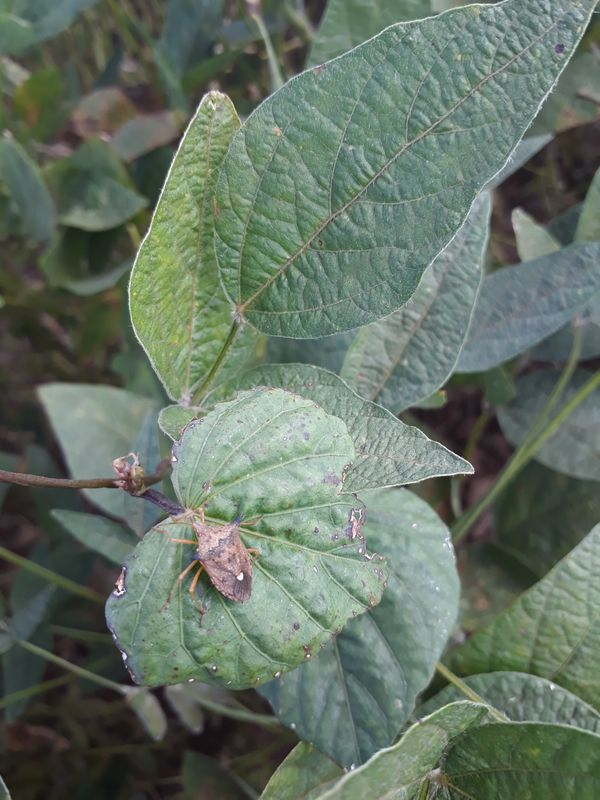Euschistus_heros_adulto: (144, 491, 276, 623)
